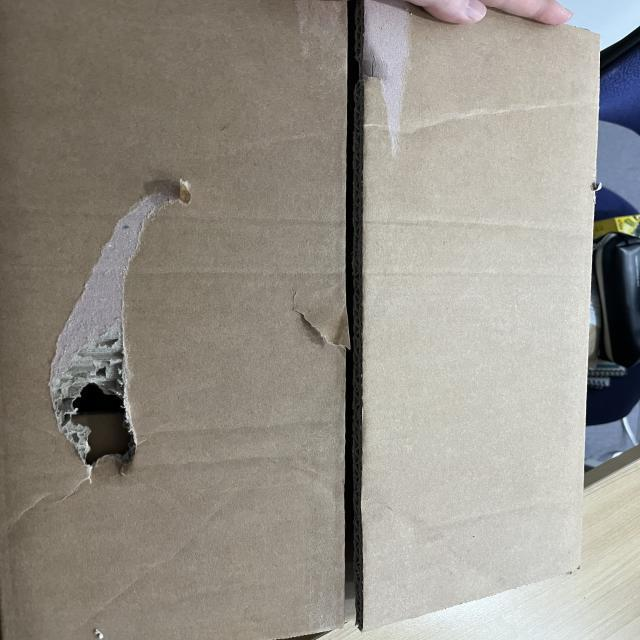damaged: (59, 380, 138, 472)
